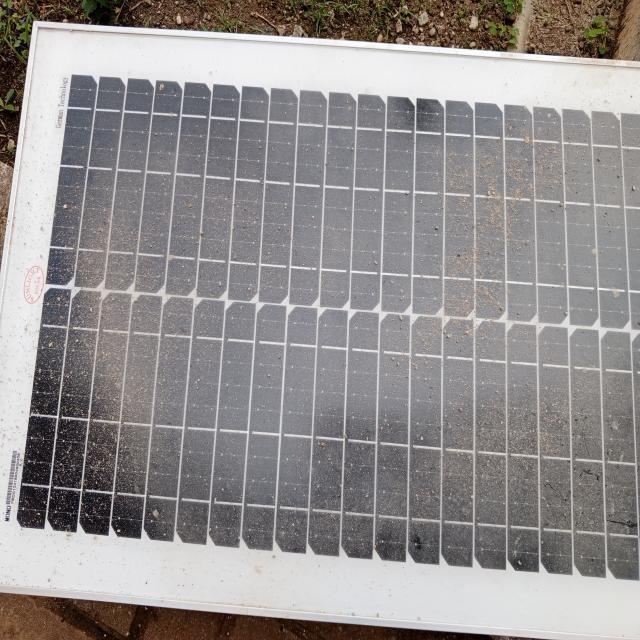Anomaly Solar Panel: (18, 38, 640, 606)
Surface Contaminant: (41, 75, 639, 571)
